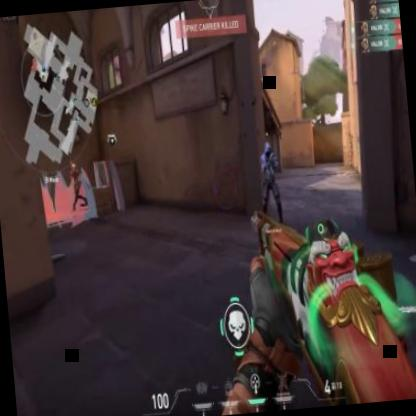enemy: (67, 160, 89, 210)
enemy_head: (72, 162, 76, 172)
